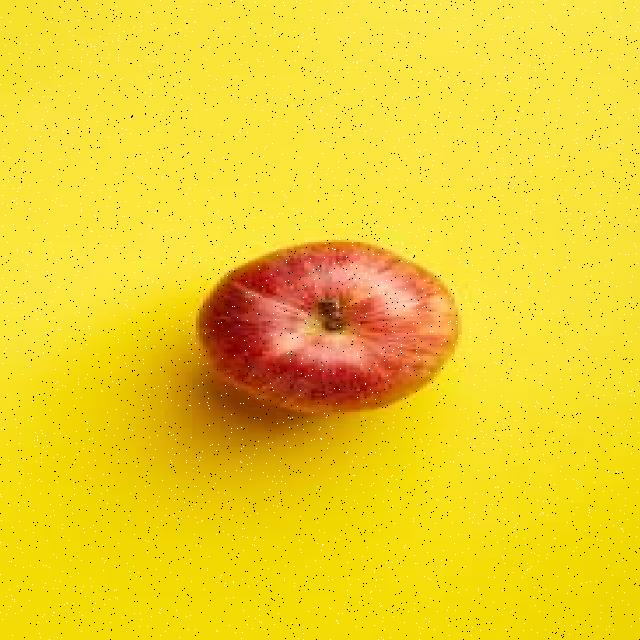Apple: (198, 241, 458, 414)
